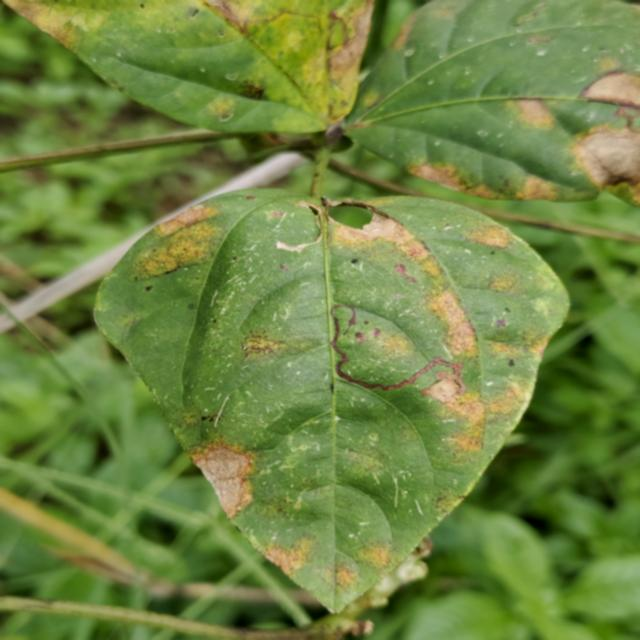sitaw-aphid-low: (95, 189, 569, 638)
